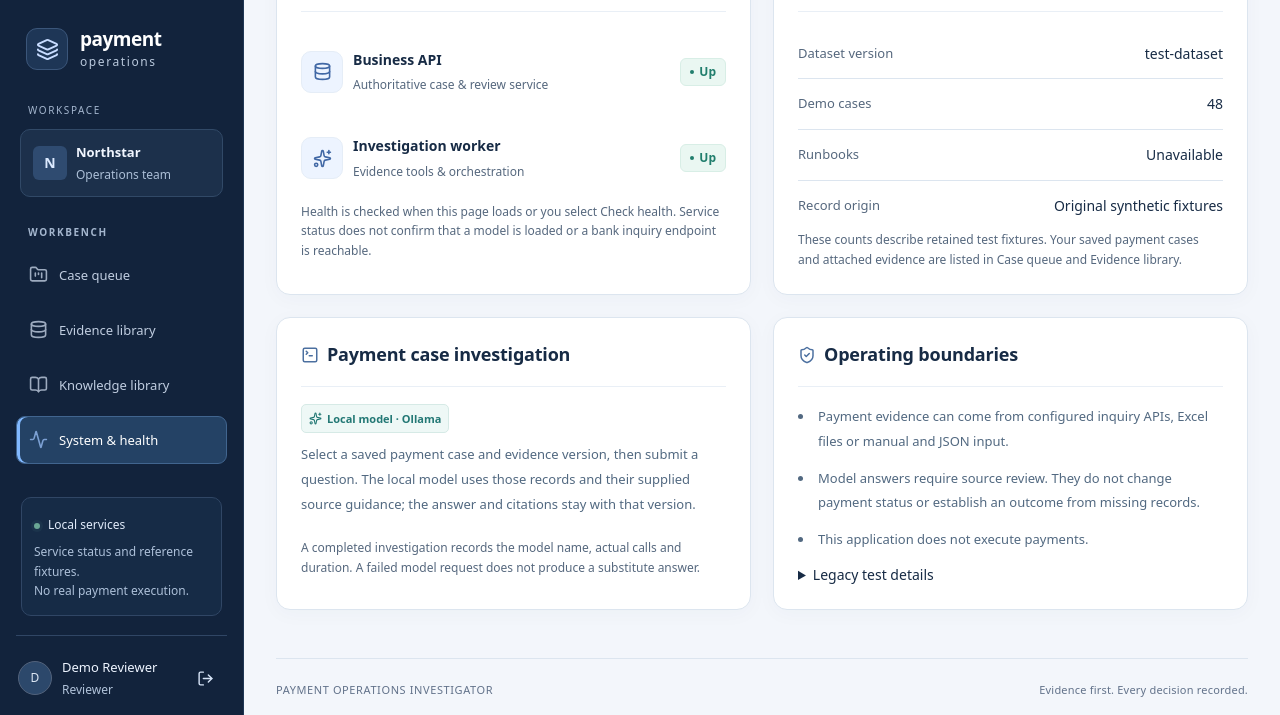
Test case: system health › distinguishes an unavailable runbook count from a confirmed zero and historical responses
(page scrolled)
Expected: the text "Unavailable" is shown, [1146,144,1223,166]
Expected: the text "0" is not shown
Step 1. Click the heading "Legacy test details" → [873, 574], box [813,565,934,584]
(page scrolled)
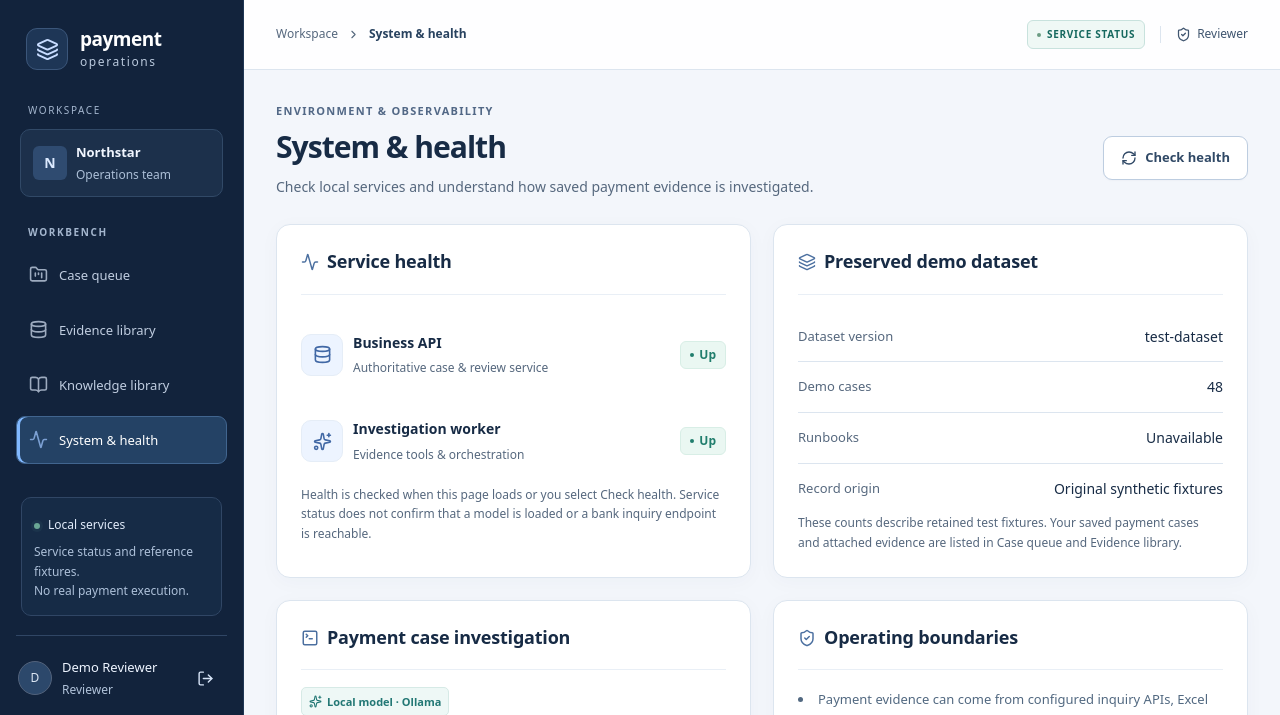
Step 2. Click the button "Check health" → [1176, 158], box [1103,136,1248,180]
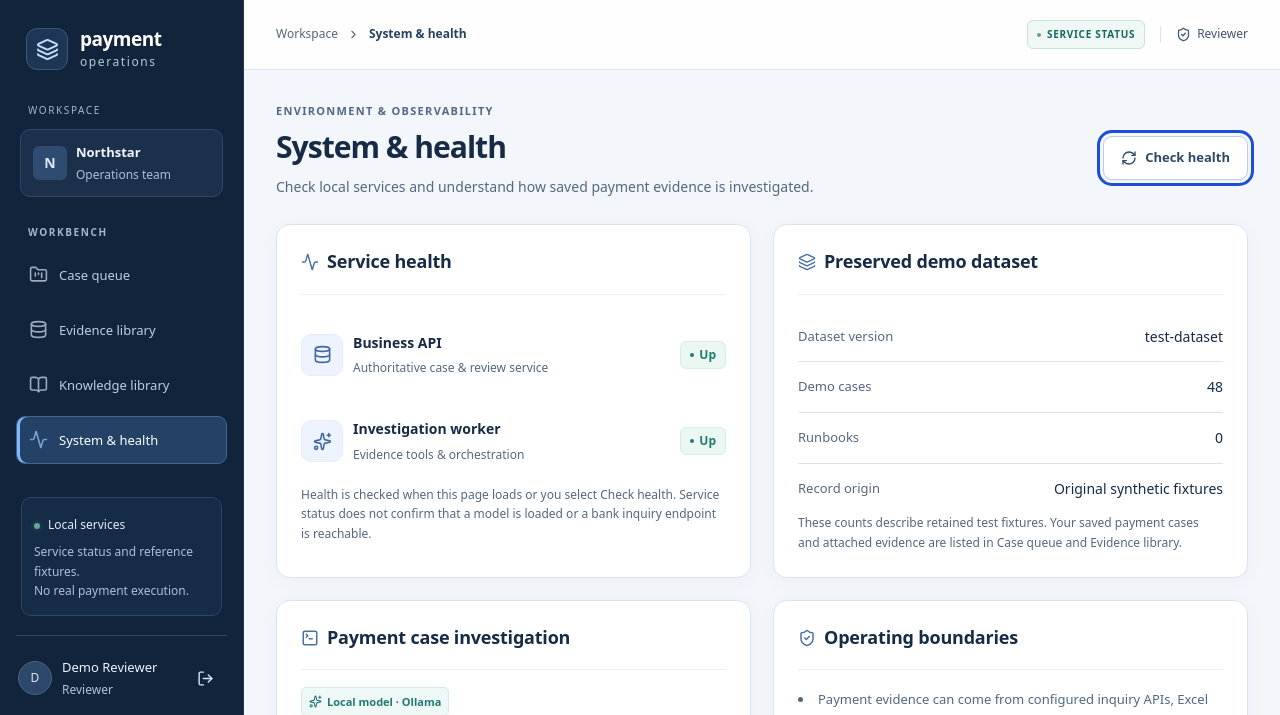
Now the text "0" is shown, box [1215,427,1223,449]
Now the text "Unavailable" is gone
Step 3. Click the button "Check health" → [1176, 158], box [1103,136,1248,180]
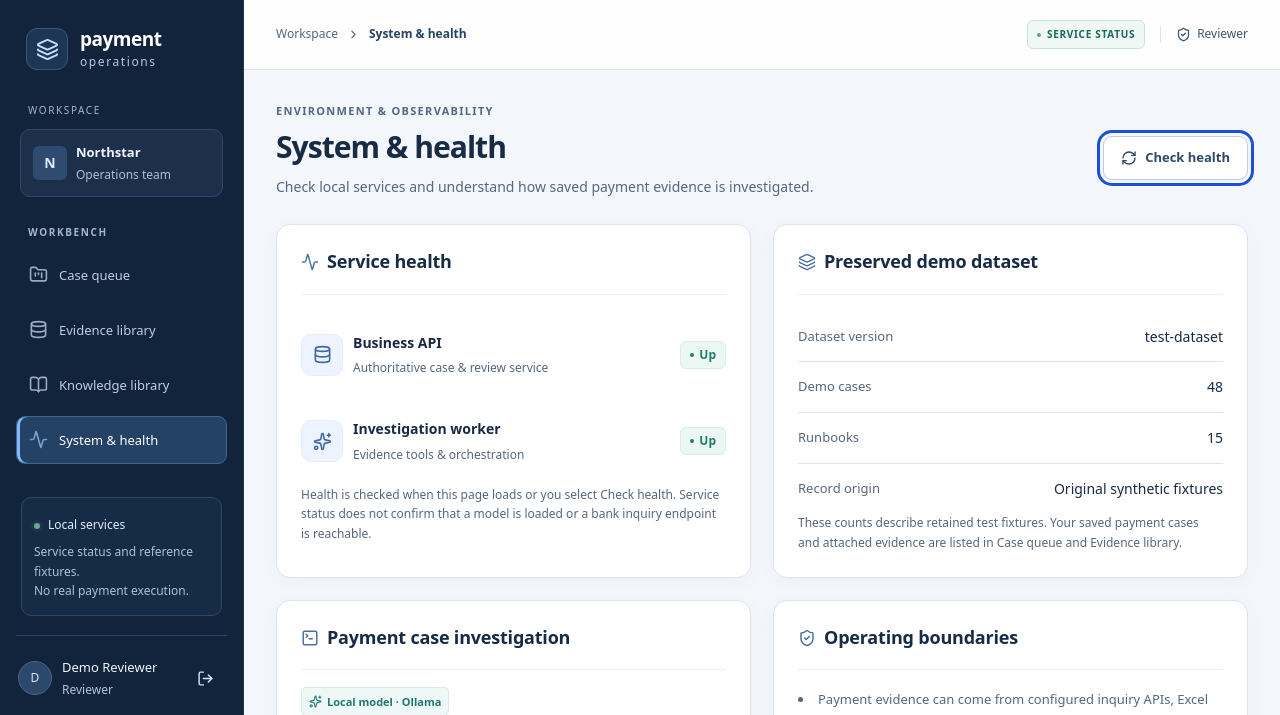
Expected: the text "Unavailable" is not shown
Now the text "15" is shown, box [1207,427,1223,449]
